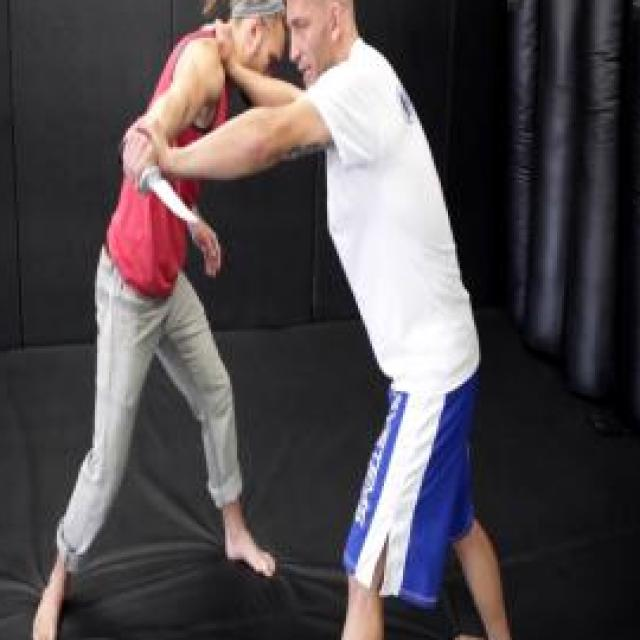knife: (114, 133, 204, 232)
